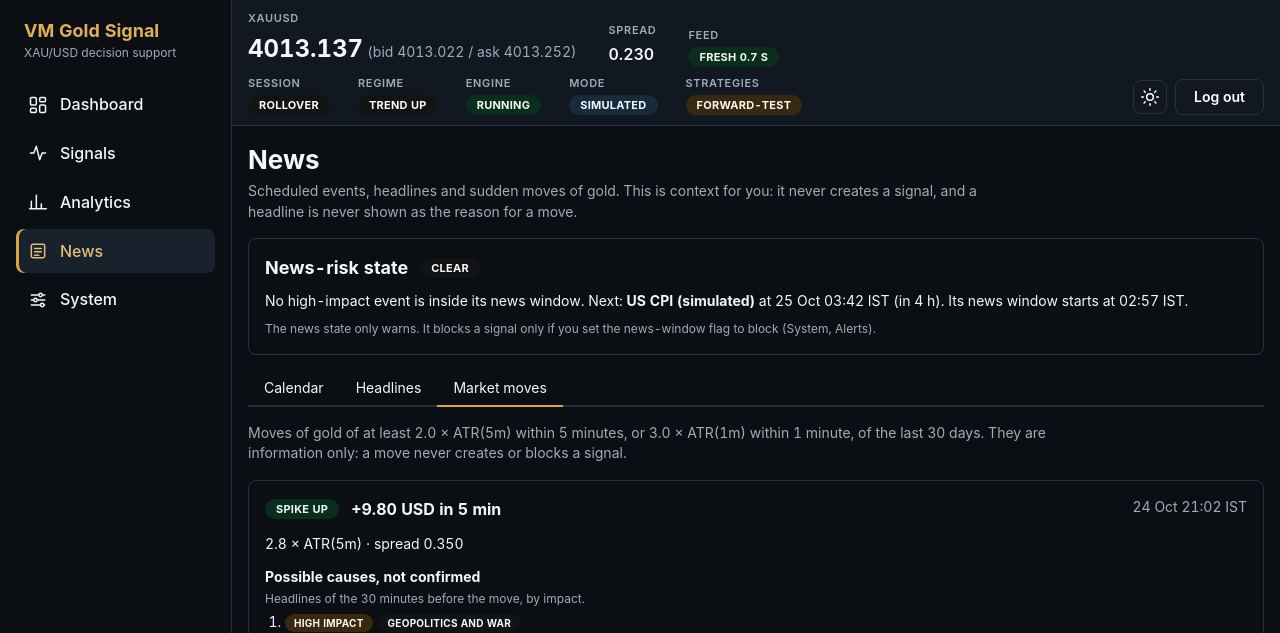
the news screen (scenario E11) › opens the tab and the filters of the address, and the tab switch changes the address
This screenshot has width=1280, height=633.
Check: the element with test id "news-state" is shown, box left=248, top=238, right=1264, bottom=355
Click the tab "Headlines" at coordinates (388, 389), box left=340, top=371, right=437, bottom=407
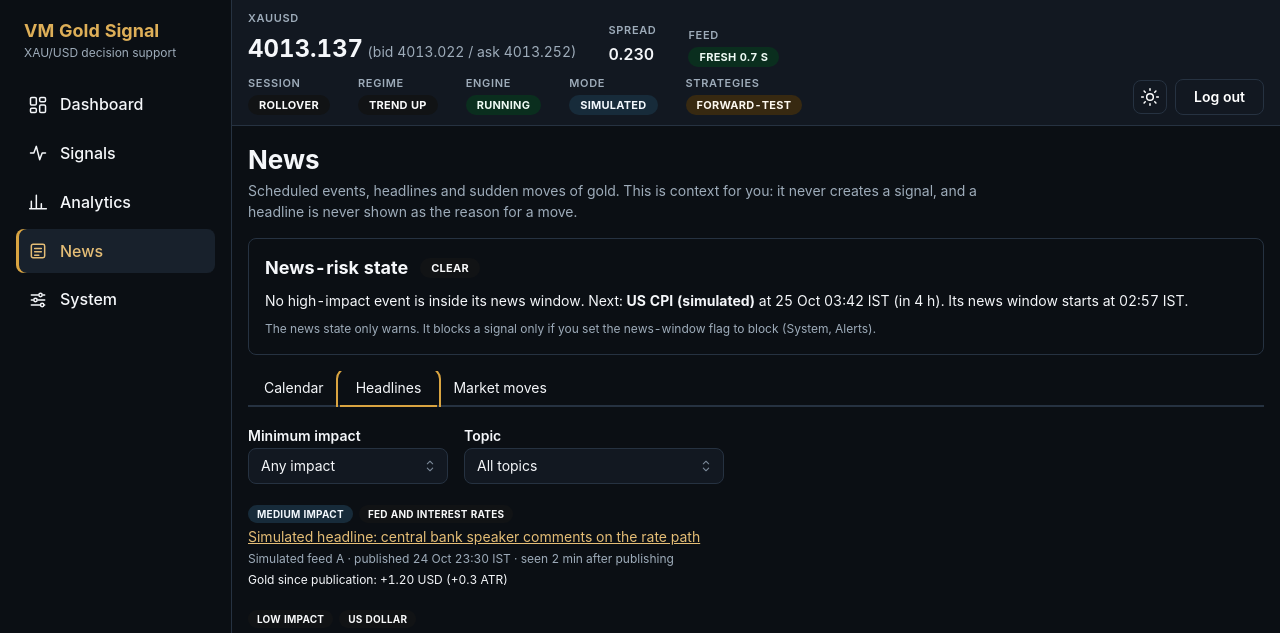
Click the tab "Calendar" at coordinates (294, 389), box left=248, top=371, right=340, bottom=407
(page scrolled)
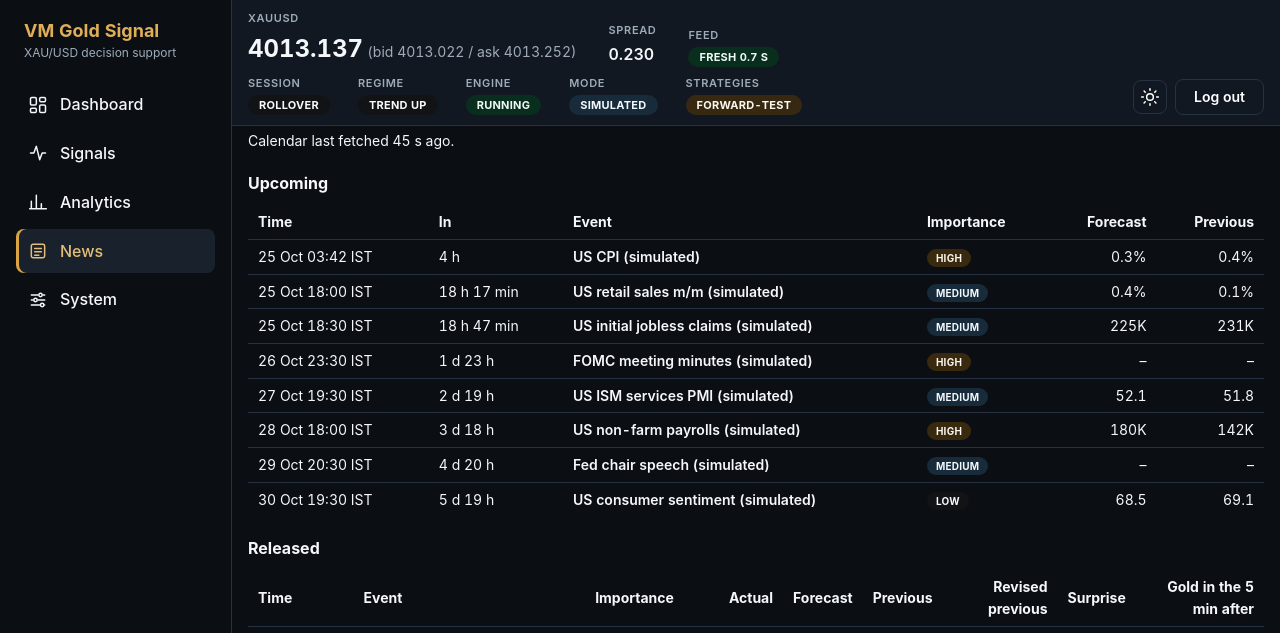
Check: the table with test id "news-upcoming" is shown, box left=248, top=205, right=1264, bottom=516
